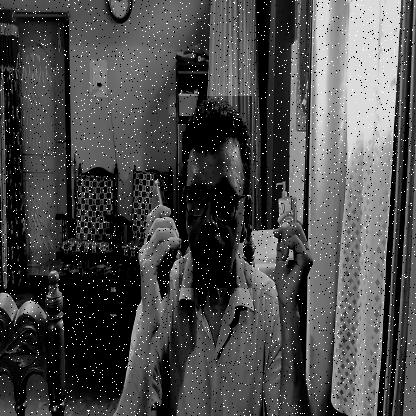Normal: (179, 96, 252, 288)
